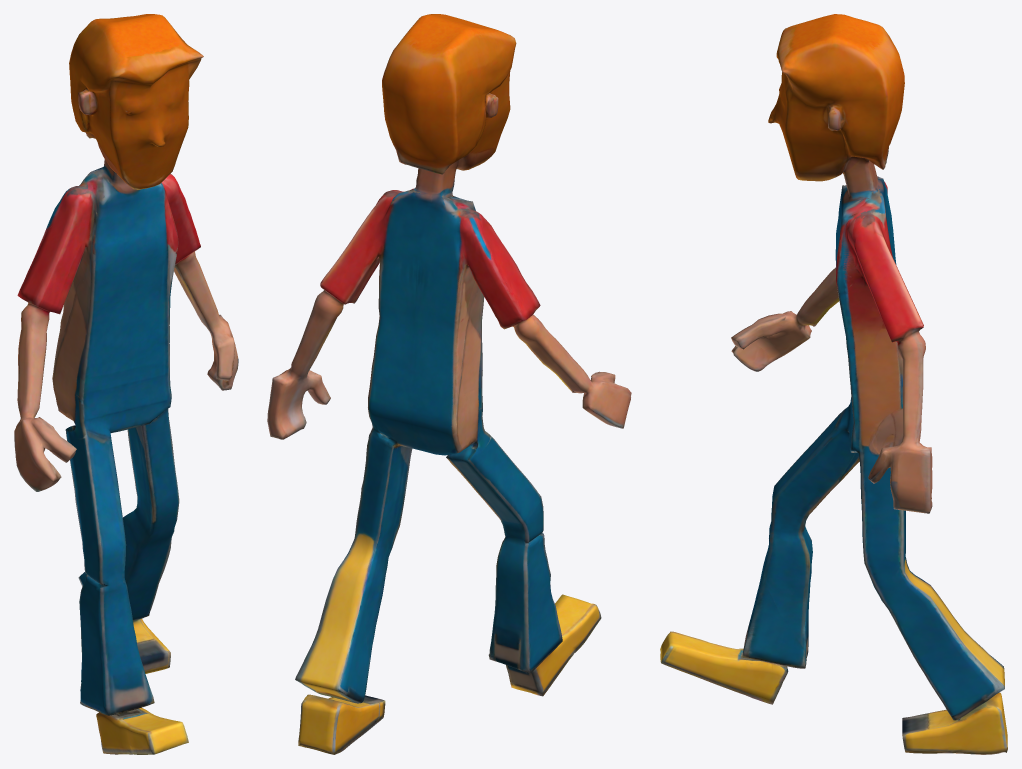
Rendered from Hombre_en_los_80_0210160500_texture.fbx.
The picture shows the model from 3 angles, left to right: view 1: azimuth 30°, elevation 25°; view 2: azimuth 150°, elevation 25°; view 3: azimuth 270°, elevation 25°; orthographic projection. The views are drawn at different scales.
Visible parts, largest first — view 1: Mesh1_Mesh1.014; view 2: Mesh1_Mesh1.014; view 3: Mesh1_Mesh1.014.
Part boxes in pixels (x1,y1,x2,y2): Mesh1_Mesh1.014: (14,14,238,754); Mesh1_Mesh1.014: (267,14,631,754); Mesh1_Mesh1.014: (660,14,1007,754).
Bounding box in the file's own units: 84.96 × 200 × 90.11.
Materials: 1 (1 with a texture image).
